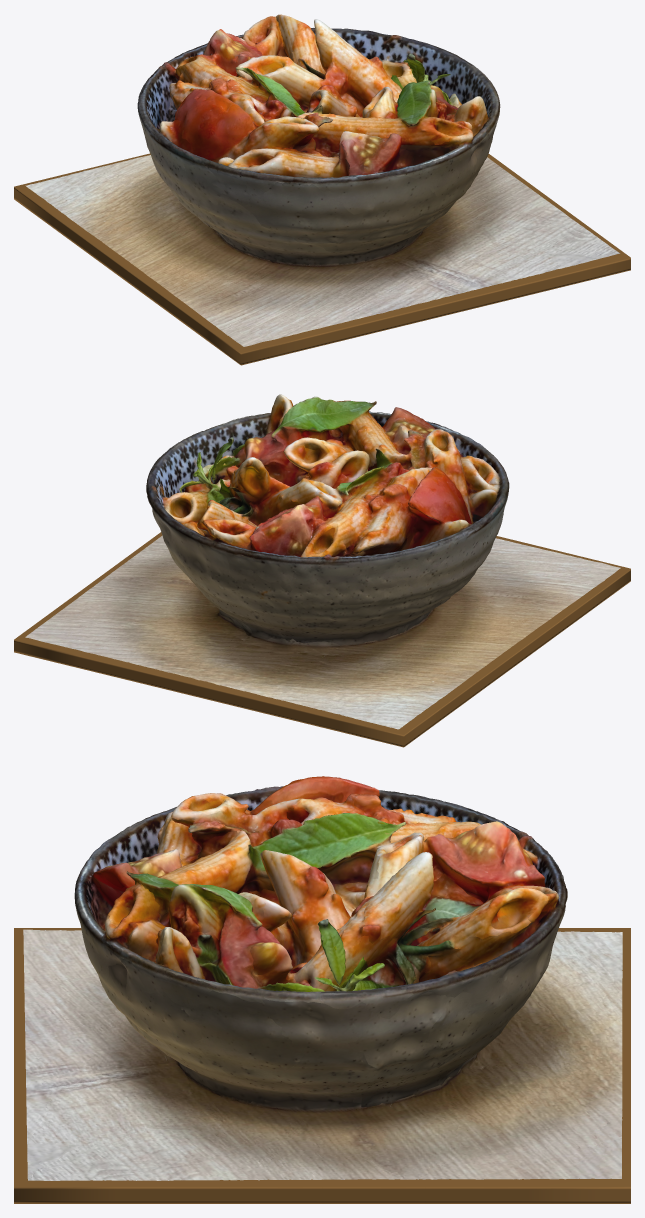
The model's file is pasta_bowl_-_polycam.glb.
3 views of the same model, one above another, from view 1: azimuth 30°, elevation 25°; view 2: azimuth 150°, elevation 25°; view 3: azimuth 270°, elevation 25° (orthographic). The views are drawn at different scales.
Parts seen in each view (by area): view 1: Object_2, Object_3, Object_4; view 2: Object_2, Object_3, Object_4; view 3: Object_2, Object_3, Object_4.
Part boxes in pixels (bbox=[...]): Object_2: bbox=[26, 14, 619, 346]; Object_3: bbox=[25, 16, 530, 338]; Object_4: bbox=[14, 153, 630, 365]; Object_2: bbox=[25, 394, 620, 728]; Object_3: bbox=[87, 412, 608, 729]; Object_4: bbox=[14, 532, 630, 747]; Object_2: bbox=[23, 776, 622, 1180]; Object_3: bbox=[23, 778, 622, 1176]; Object_4: bbox=[14, 928, 630, 1203].
Size of the model in its own units: 1.25 by 0.5466 by 1.26.
1 material, 1 textured.
